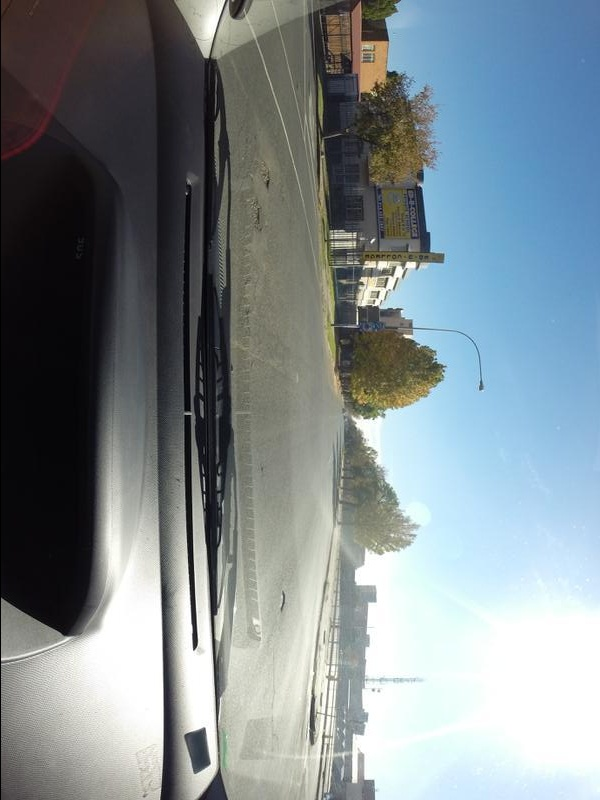pothole: (244, 203, 267, 228), (260, 160, 274, 194), (277, 589, 288, 610)
